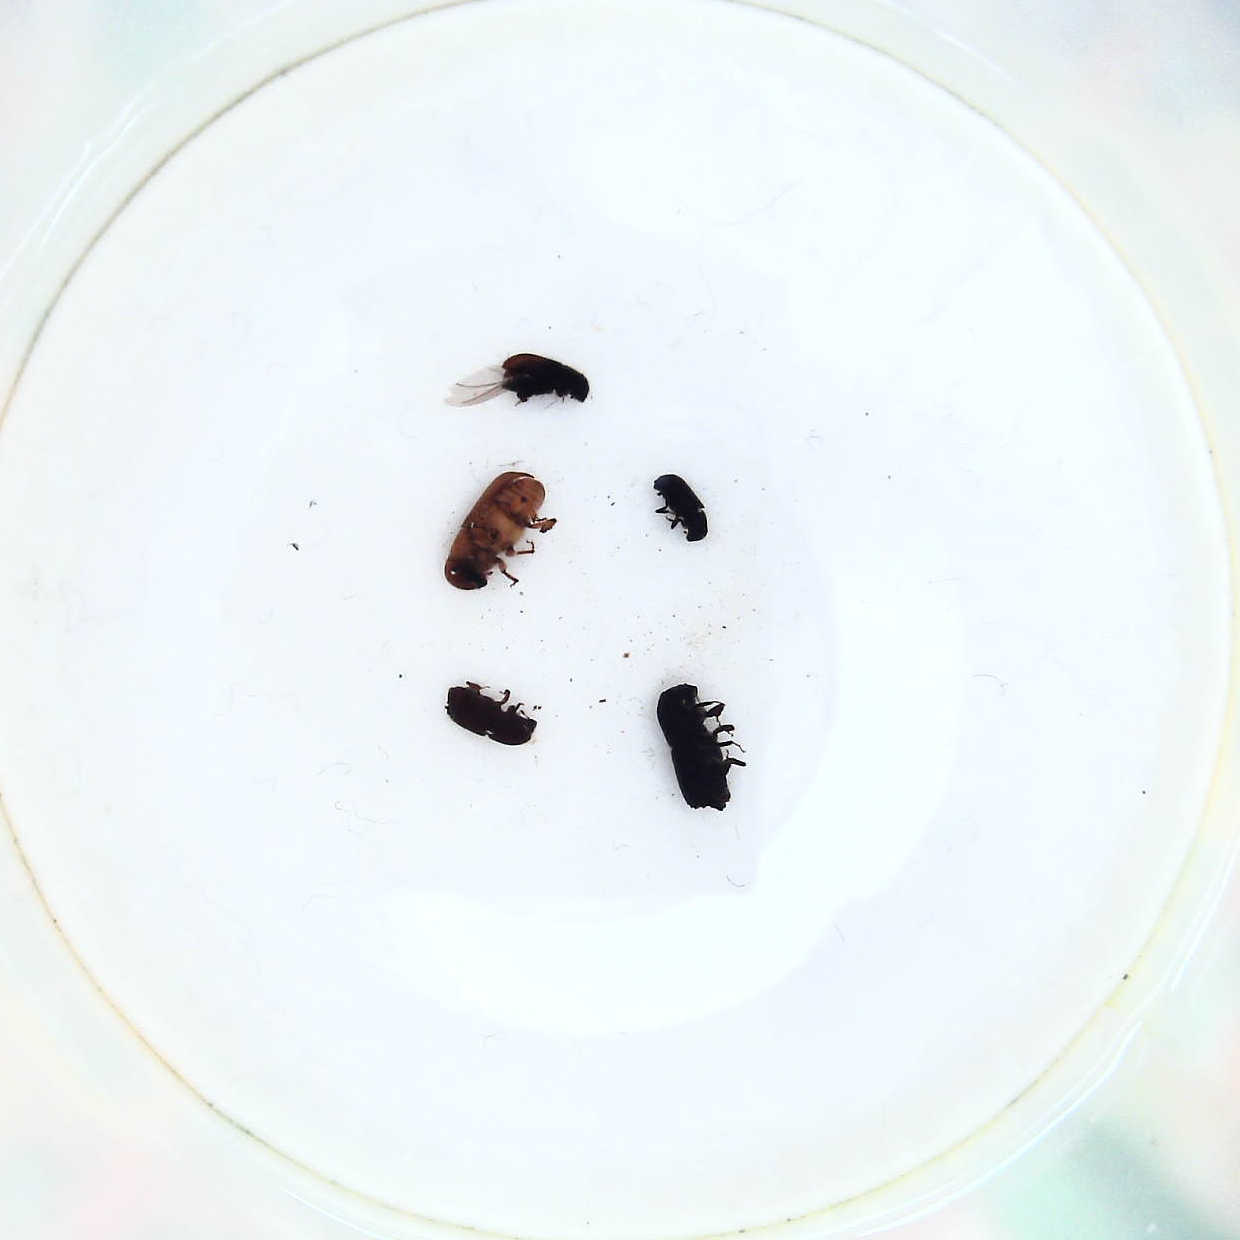Boerner: (650, 680, 755, 816)
Leconte: (439, 466, 565, 595)
armandi: (445, 346, 594, 417)
coleoptera: (648, 468, 714, 548)
linnaeus: (436, 678, 543, 751)
